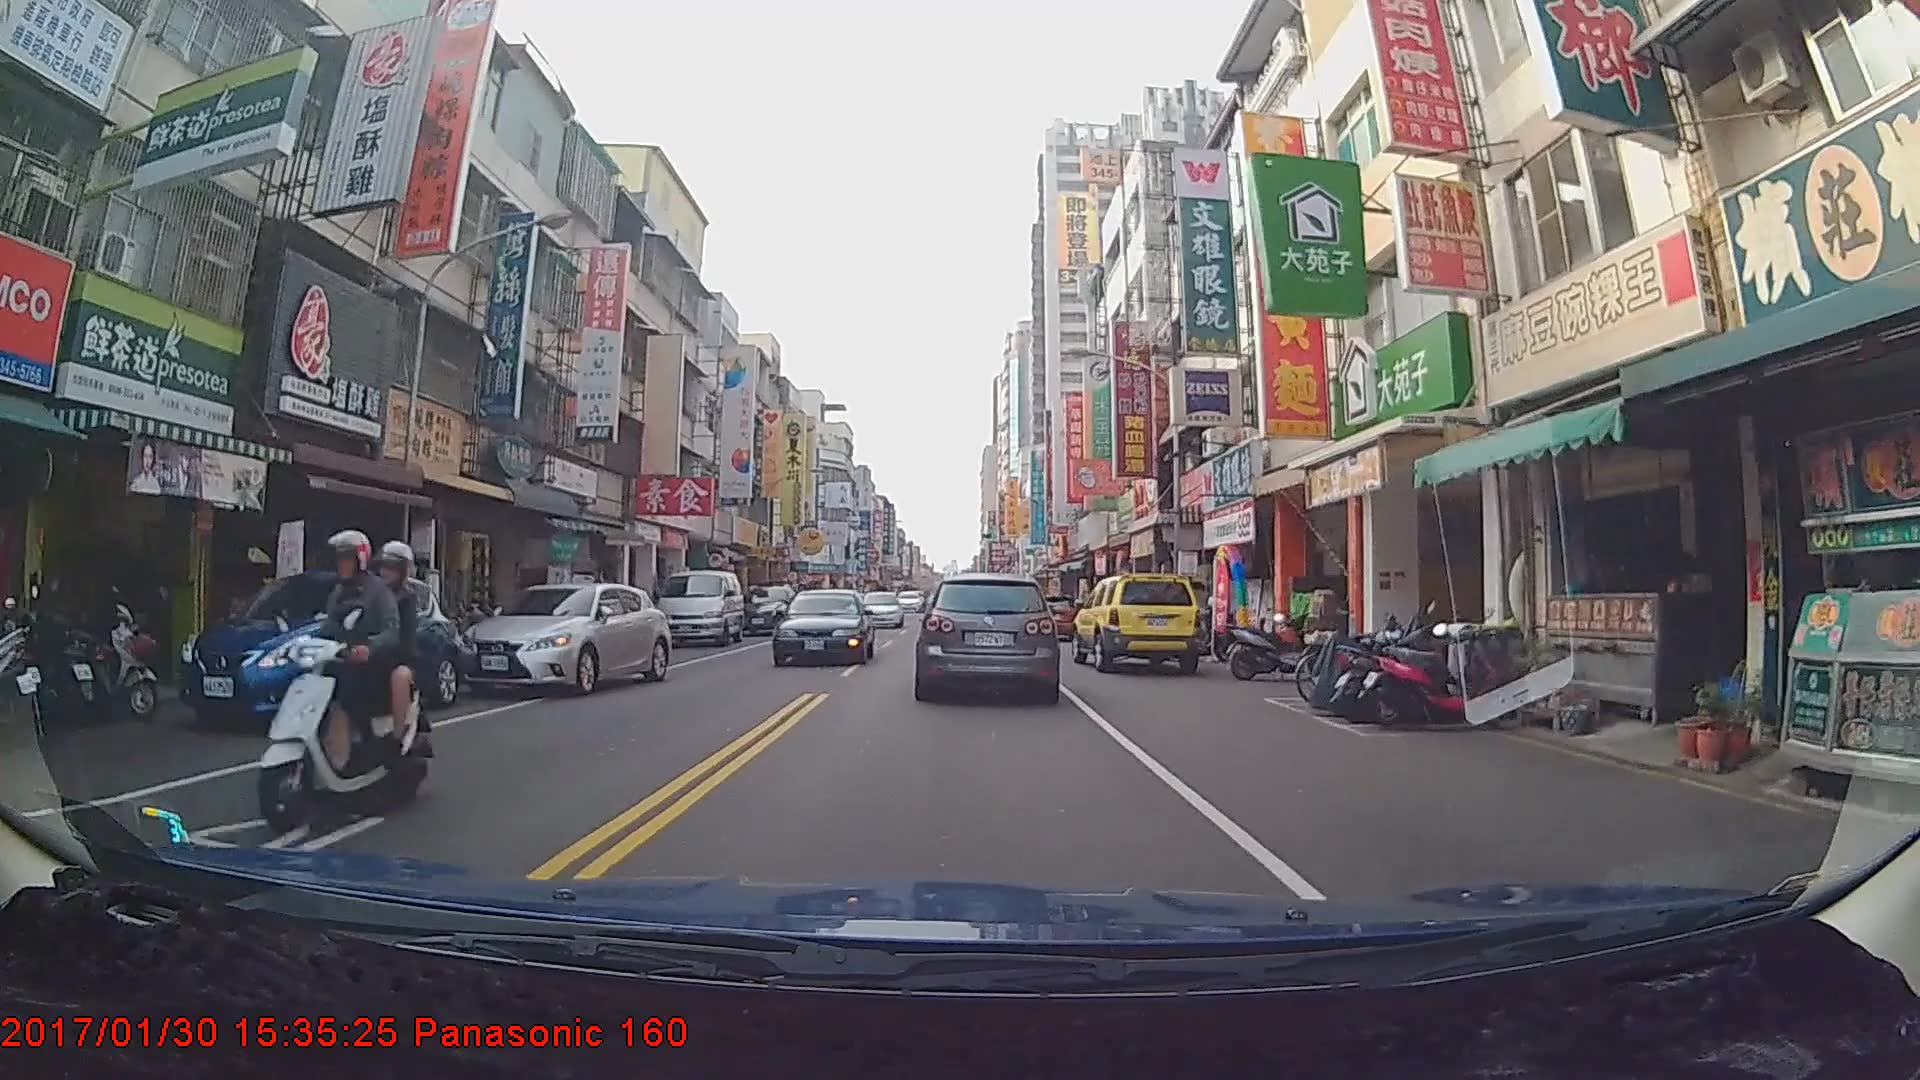rider: (255, 526, 415, 824)
vehicle: (176, 570, 459, 728), (454, 580, 670, 695), (915, 573, 1057, 700), (1071, 567, 1204, 672), (771, 588, 872, 665), (653, 568, 745, 645), (736, 584, 799, 636), (858, 590, 904, 628)
